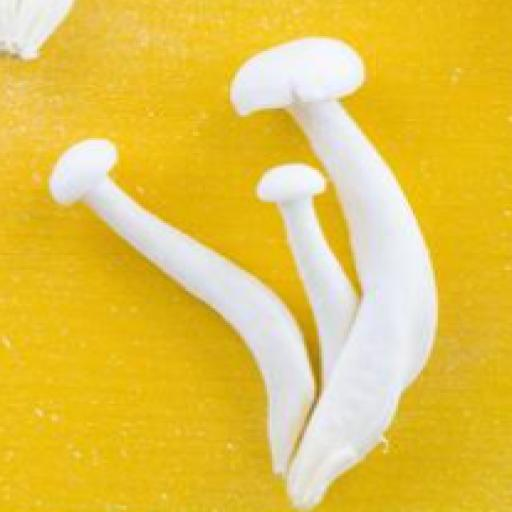Enoki Mushroom: (40, 34, 463, 507)
